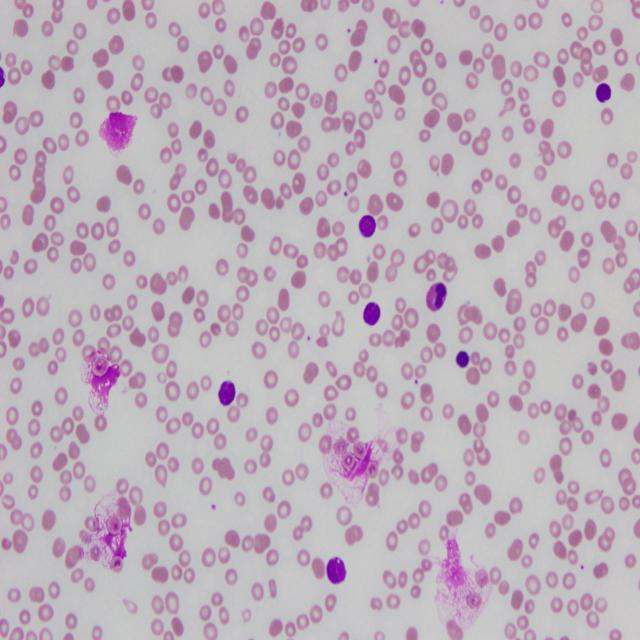cell: (326, 557, 346, 583), (218, 380, 236, 405), (359, 215, 376, 238), (364, 302, 380, 325), (596, 83, 611, 102), (456, 350, 469, 368)
